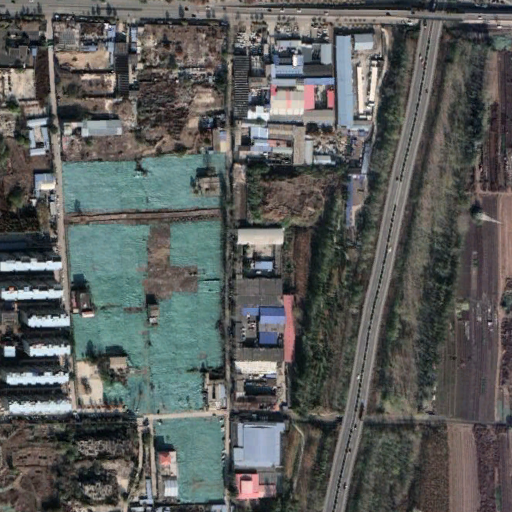cw: (61, 153, 227, 502)
